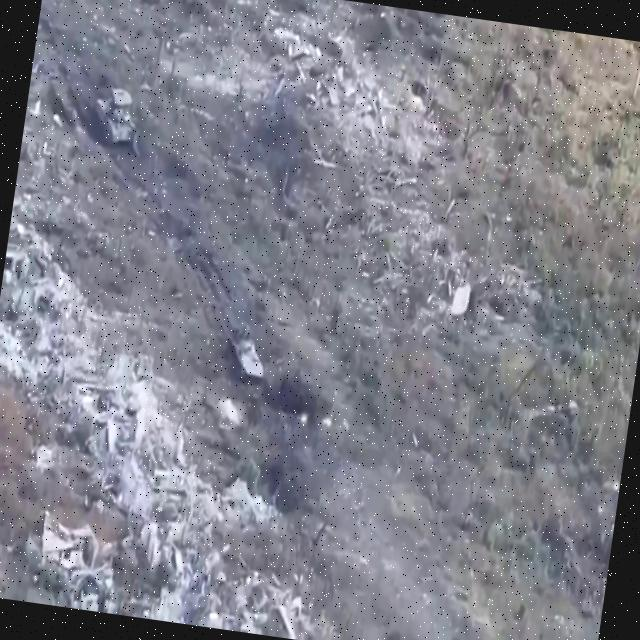AIFV: (221, 319, 273, 385)
MBT: (88, 82, 145, 164)
